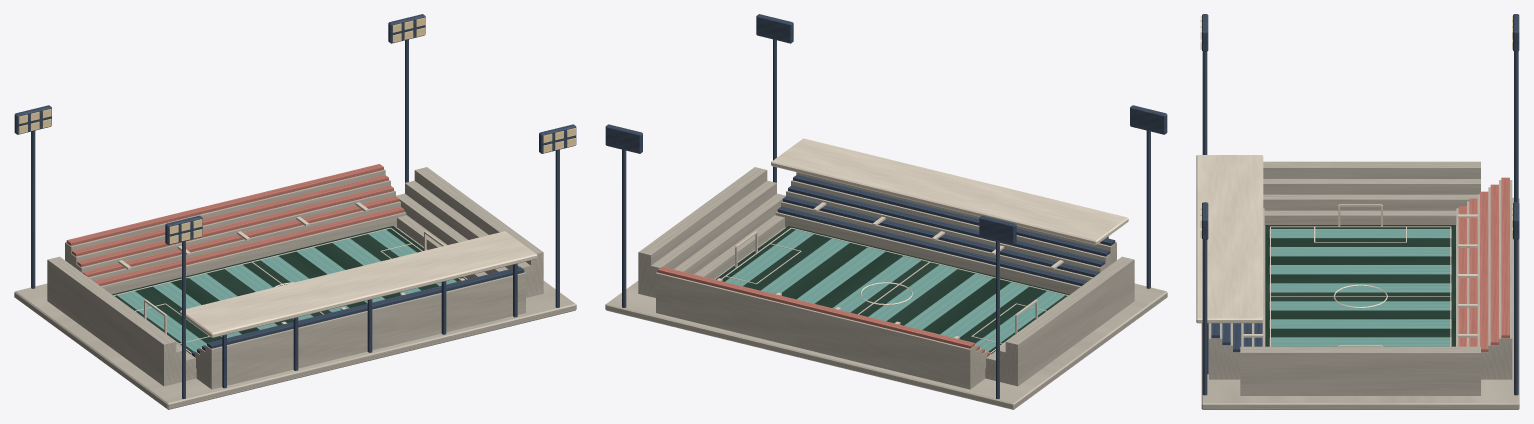
The model's file is petrosport-stadium.glb.
3 views of the same model, side by side, from view 1: azimuth 30°, elevation 25°; view 2: azimuth 150°, elevation 25°; view 3: azimuth 270°, elevation 25° (orthographic). The views are drawn at different scales.
Parts seen in each view (by area): view 1: petrosport-stadium; view 2: petrosport-stadium; view 3: petrosport-stadium.
Part boxes in pixels (x1=…): petrosport-stadium: x1=14, y1=14, x2=576, y2=409; petrosport-stadium: x1=605, y1=14, x2=1167, y2=409; petrosport-stadium: x1=1196, y1=14, x2=1519, y2=409.
Size of the model in its own units: 13.8 by 5.95 by 9.15.
Materials: 1 (1 with a texture image).
